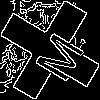M: (25, 25, 86, 84)
